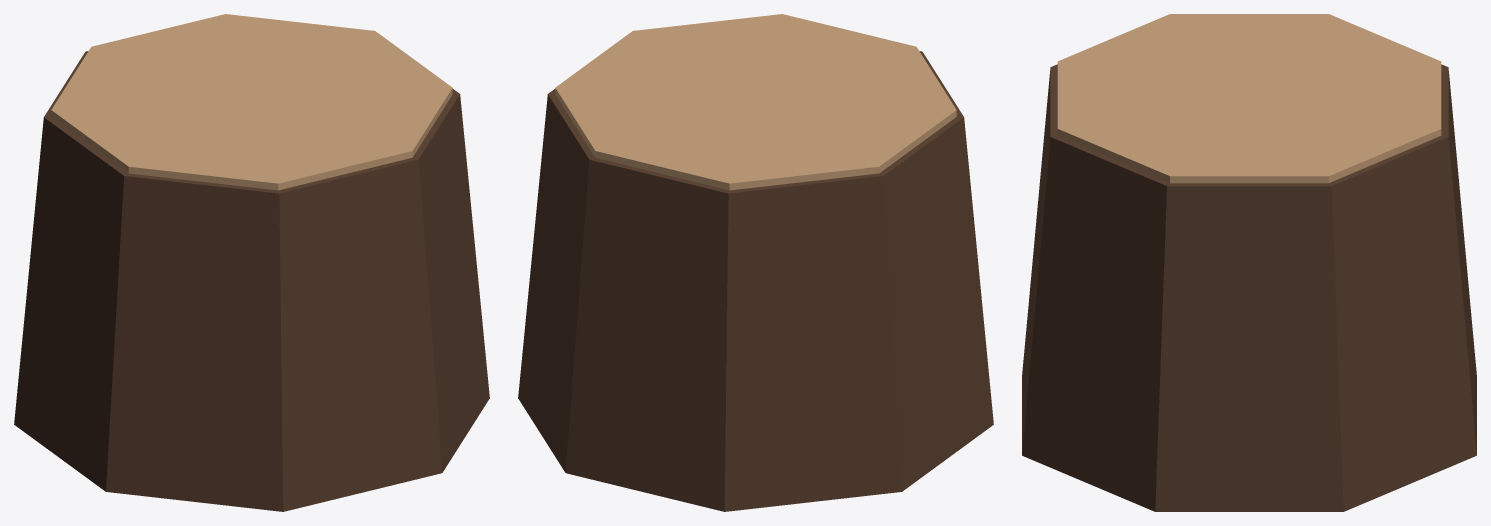
File: tree_stump.glb
3 renders of one model, left to right at view 1: azimuth 30°, elevation 25°; view 2: azimuth 150°, elevation 25°; view 3: azimuth 270°, elevation 25°, orthographic. The views are drawn at different scales.
Parts seen in each view (by area): view 1: tree_stump; view 2: tree_stump; view 3: tree_stump.
Boxes of the visible parts, left/top/right/bottom form: tree_stump: left=14, top=14, right=489, bottom=511; tree_stump: left=518, top=14, right=993, bottom=511; tree_stump: left=1022, top=14, right=1476, bottom=511.
Size of the model in its own units: 0.5913 by 0.46 by 0.5913.
